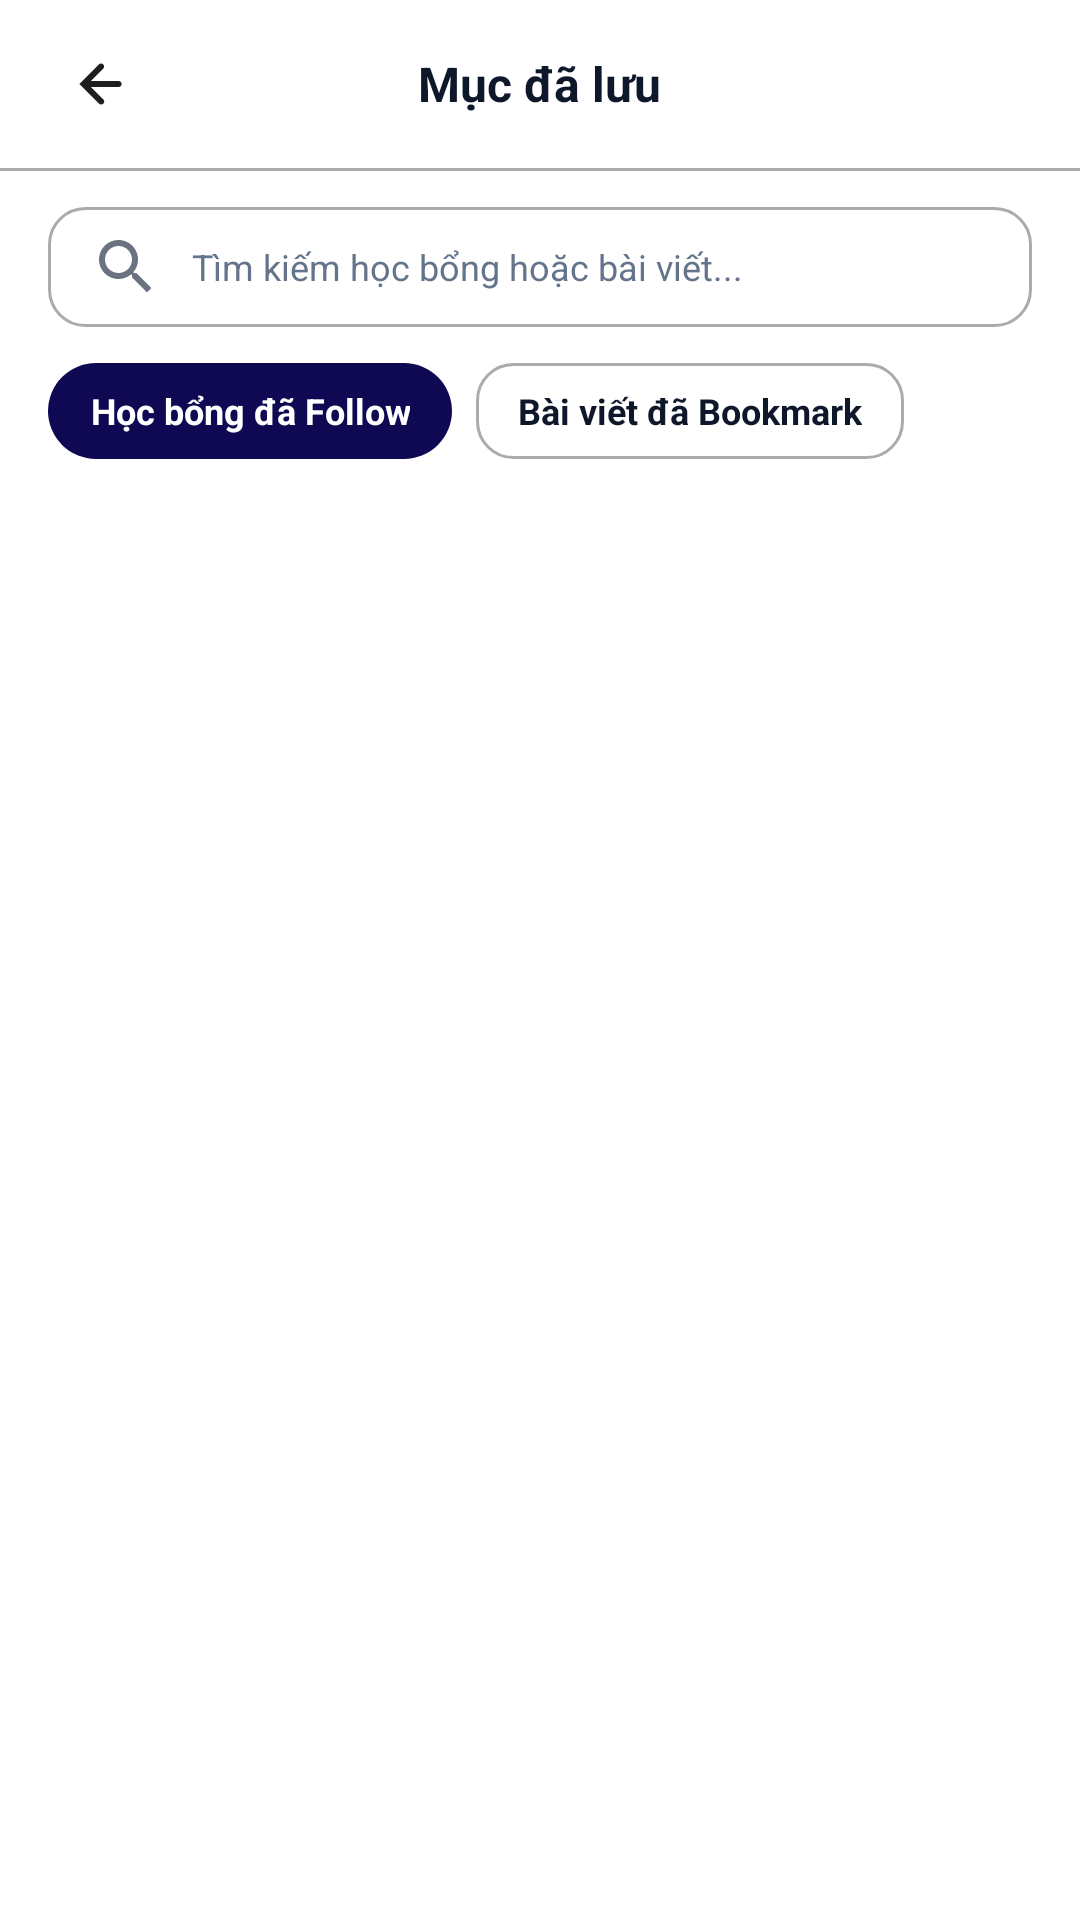

Screen size 1080 × 1920. Icon name, then its center in pixels as (x=x, y=y):
Back button: (x=100, y=84)
